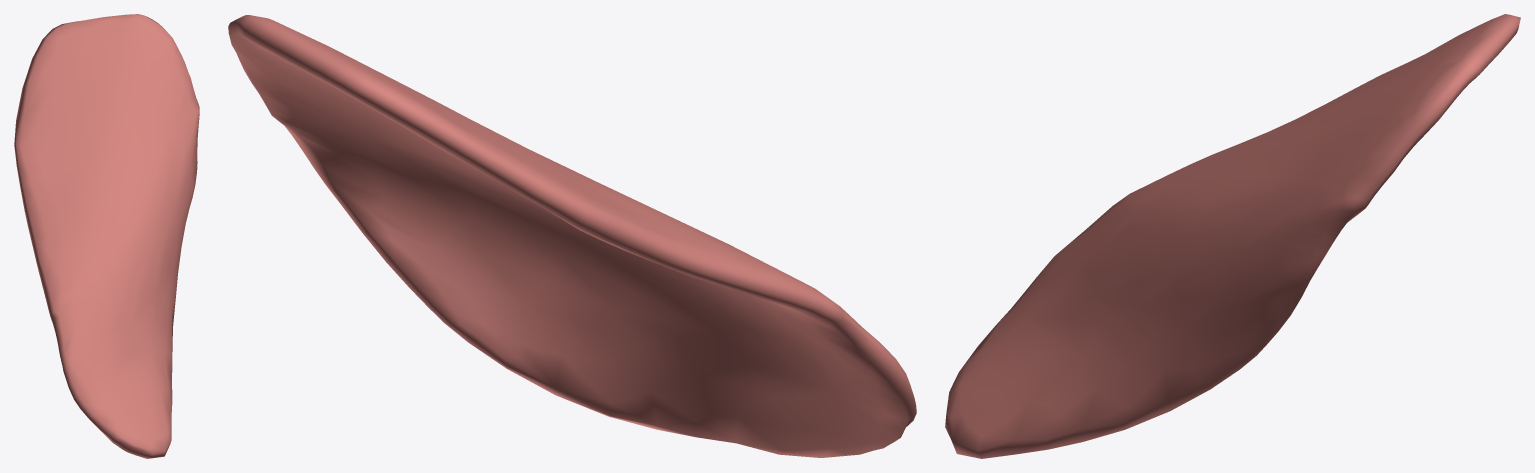
The picture shows the model from 3 angles, left to right: view 1: azimuth 30°, elevation 25°; view 2: azimuth 150°, elevation 25°; view 3: azimuth 270°, elevation 25°; orthographic projection. The views are drawn at different scales.
Visible parts, largest first — view 1: ZA_650ce344e2dac99e; view 2: ZA_650ce344e2dac99e; view 3: ZA_650ce344e2dac99e.
Part boxes in pixels (x1,y1,x2,y2): ZA_650ce344e2dac99e: (14, 14, 199, 458); ZA_650ce344e2dac99e: (228, 15, 916, 457); ZA_650ce344e2dac99e: (945, 14, 1520, 458).
Bounding box in the file's own units: 0.00838 × 0.0106 × 0.0111.
